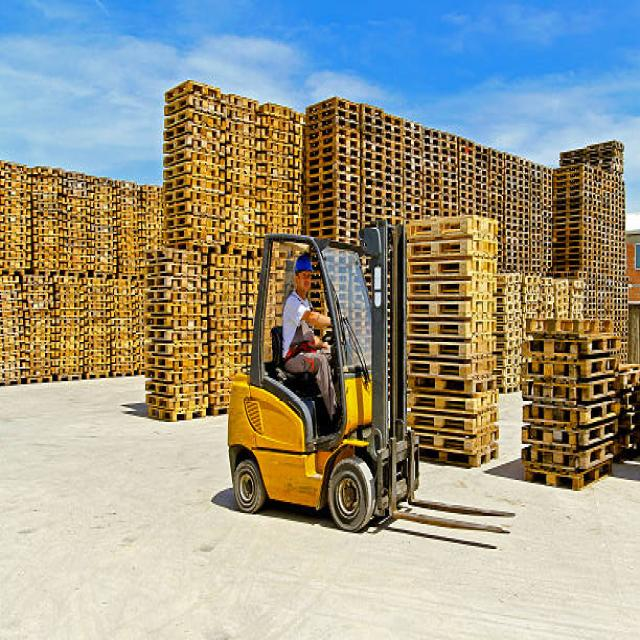Wooden-Pallets: (401, 211, 509, 254), (516, 327, 624, 365), (514, 414, 624, 449), (514, 461, 588, 509), (408, 411, 504, 446), (506, 374, 588, 414), (404, 277, 479, 317), (402, 319, 494, 348)
